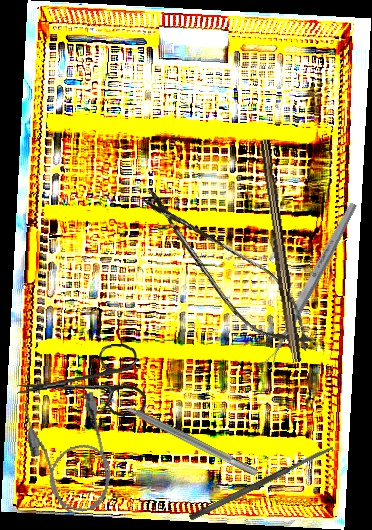Cannula: (18, 384, 121, 521)
Fixation Ring: (96, 385, 263, 486)
Iris Scissors: (12, 341, 148, 428)
Micro Scissor: (123, 172, 332, 369)
Scalpel Handle: (253, 139, 305, 364)
Spatula Surgical: (188, 444, 335, 522)
Surgical Spoon: (261, 201, 359, 371)
